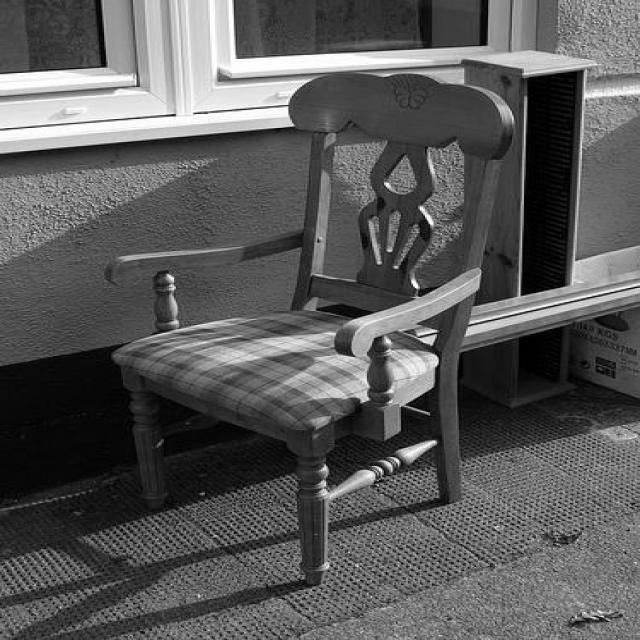chair: (109, 70, 516, 584)
